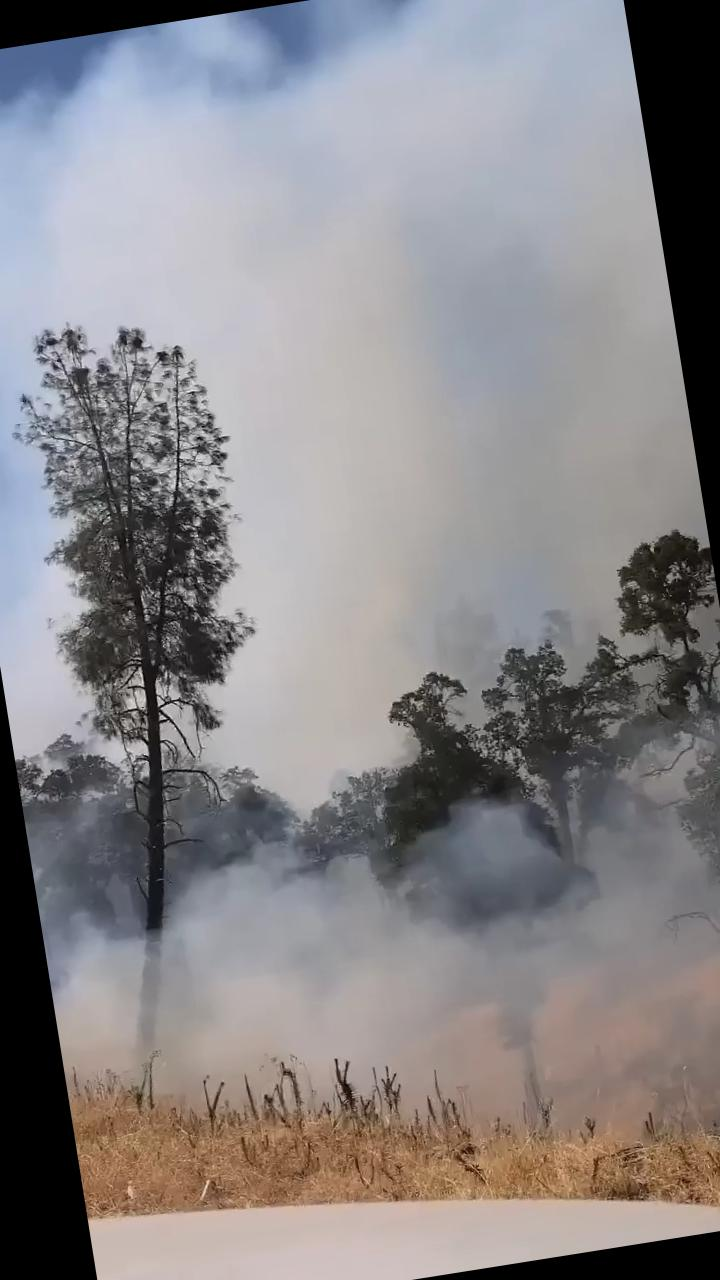Smoke: (119, 0, 710, 625), (35, 779, 720, 1195)
